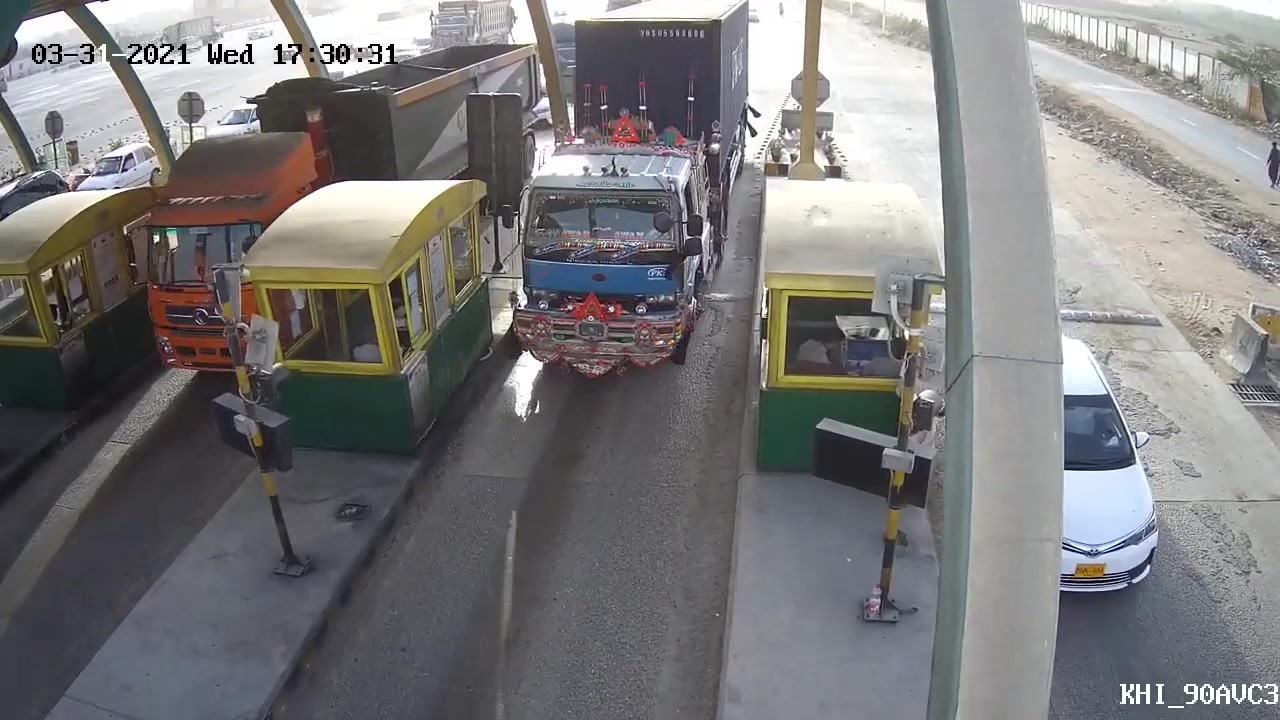F6: (501, 1, 758, 394)
